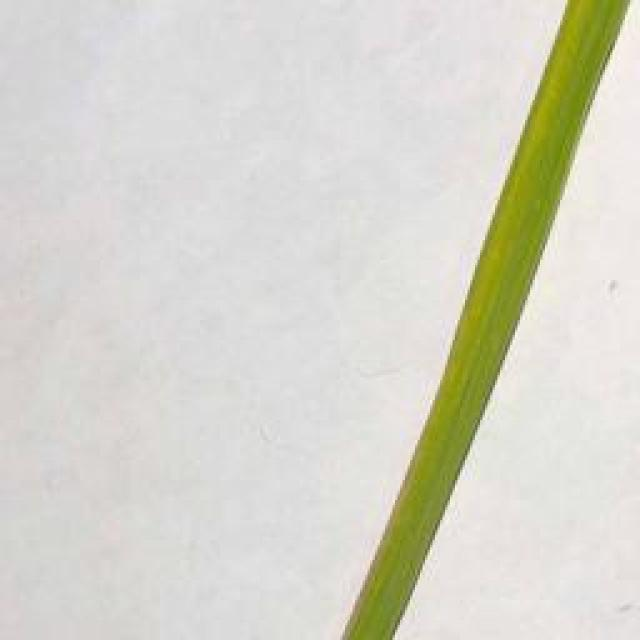Healthy-Plant: (337, 0, 632, 640)
